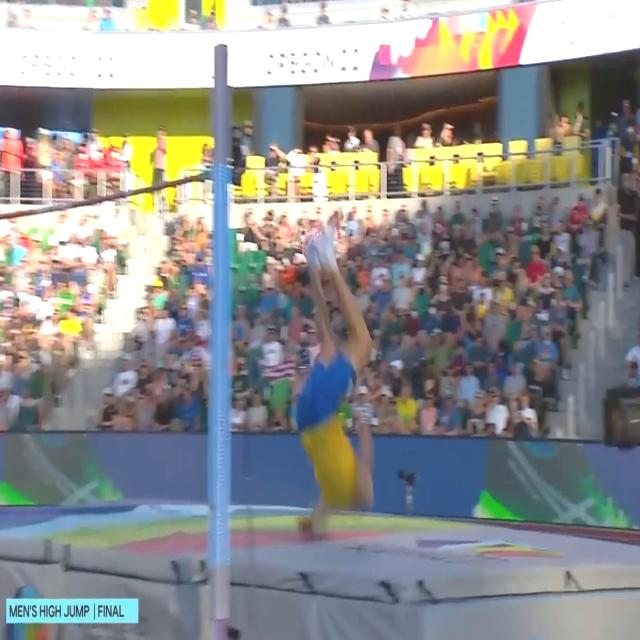land: (296, 228, 373, 512)
